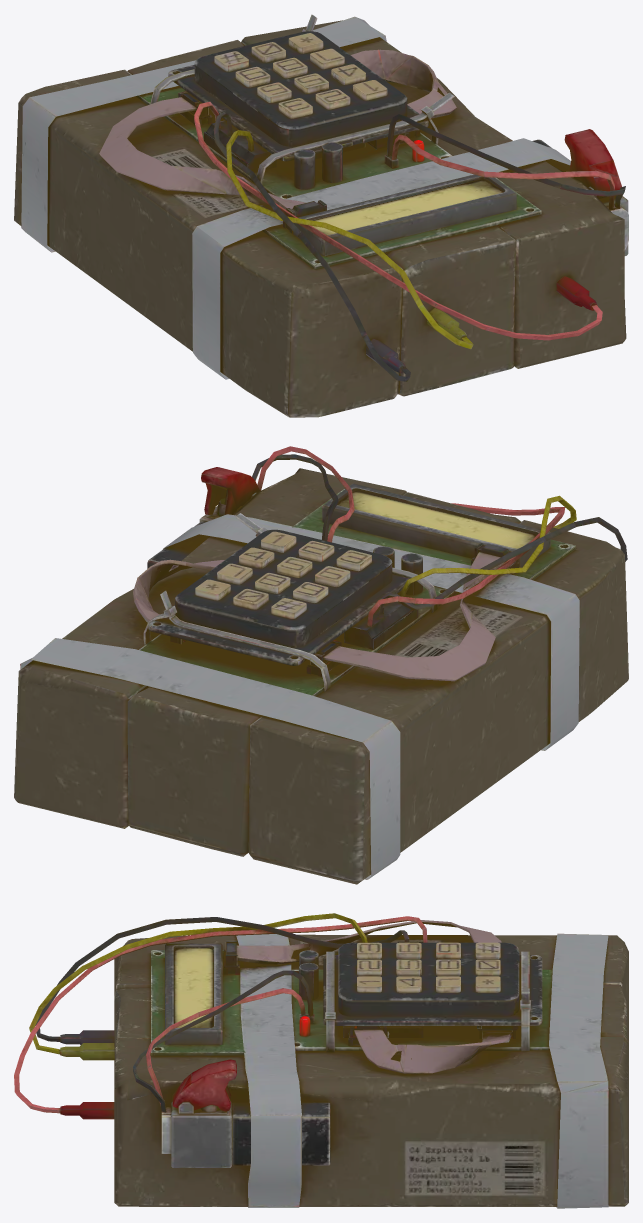
The model's file is c4_explosive.glb.
3 views of the same model, one above another, from view 1: azimuth 30°, elevation 25°; view 2: azimuth 150°, elevation 25°; view 3: azimuth 270°, elevation 25° (orthographic). The views are drawn at different scales.
Parts seen in each view (by area): view 1: models/weapons/w_eq_c4.001_materials/models/weapons/w_models; view 2: models/weapons/w_eq_c4.001_materials/models/weapons/w_models; view 3: models/weapons/w_eq_c4.001_materials/models/weapons/w_models.
Part boxes in pixels (x1,y1,x2,y2): models/weapons/w_eq_c4.001_materials/models/weapons/w_models: (14, 14, 628, 417); models/weapons/w_eq_c4.001_materials/models/weapons/w_models: (14, 446, 628, 884); models/weapons/w_eq_c4.001_materials/models/weapons/w_models: (14, 913, 628, 1208).
Bounding box in the file's own units: 7.16 × 3.52 × 10.81.
Materials: 1 (1 with a texture image).
